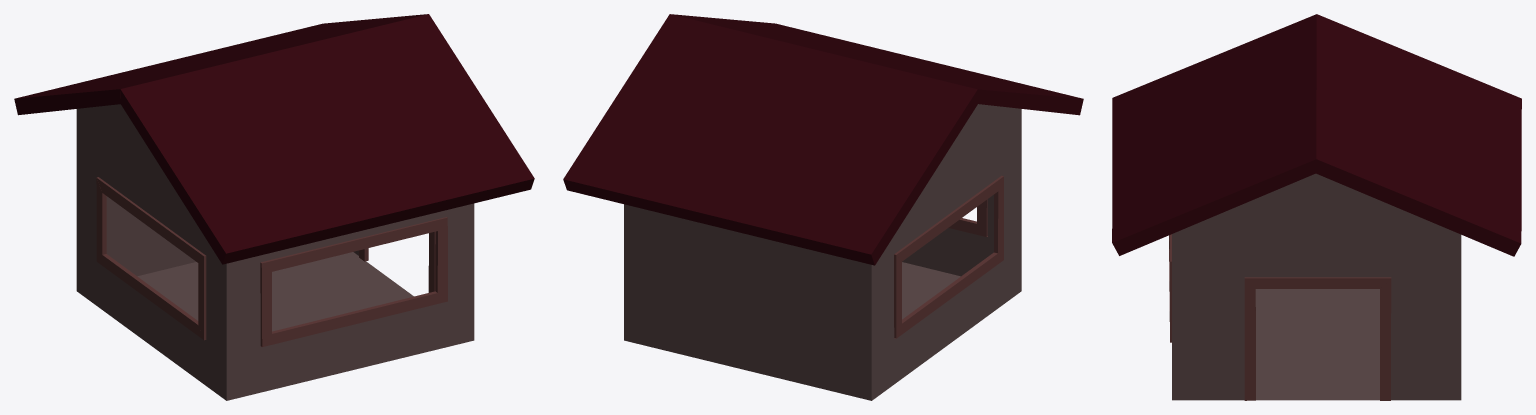
File: house3.fbx
The picture shows the model from 3 angles, left to right: view 1: azimuth 30°, elevation 25°; view 2: azimuth 150°, elevation 25°; view 3: azimuth 270°, elevation 25°; orthographic projection. The views are drawn at different scales.
Visible parts, largest first — view 1: Cube.017, Cube, Cube.018, Cube.031, Cube.030, Cube.026, Cube.027, Cube.029, Cube.032, Cube.025, Cube.028; view 2: Cube.018, Cube, Cube.017, Cube.026, Cube.027, Cube.028, Cube.025; view 3: Cube, Cube.018, Cube.017, Cube.023, Cube.019, Cube.024.
Part boxes in pixels (x1,y1,x2,y2): Cube.017: (120,14,534,264); Cube: (76,104,474,400); Cube.018: (14,14,428,115); Cube.031: (260,291,447,347); Cube.030: (261,217,447,271); Cube.026: (97,254,203,339); Cube.027: (97,177,205,262); Cube.029: (435,218,447,301); Cube.032: (260,262,271,346); Cube.025: (96,178,106,260); Cube.028: (198,256,206,340); Cube.018: (563,14,977,265); Cube: (624,104,1021,400); Cube.017: (672,14,1083,115); Cube.026: (894,252,1003,338); Cube.027: (894,175,1003,261); Cube.028: (994,176,1003,259); Cube.025: (894,254,901,338); Cube: (1172,173,1461,400); Cube.018: (1316,14,1521,256); Cube.017: (1112,14,1316,255); Cube.023: (1244,277,1391,288); Cube.019: (1244,278,1255,400); Cube.024: (1380,279,1391,400).
Bounding box in the file's own units: 2974 × 2434 × 3544.
